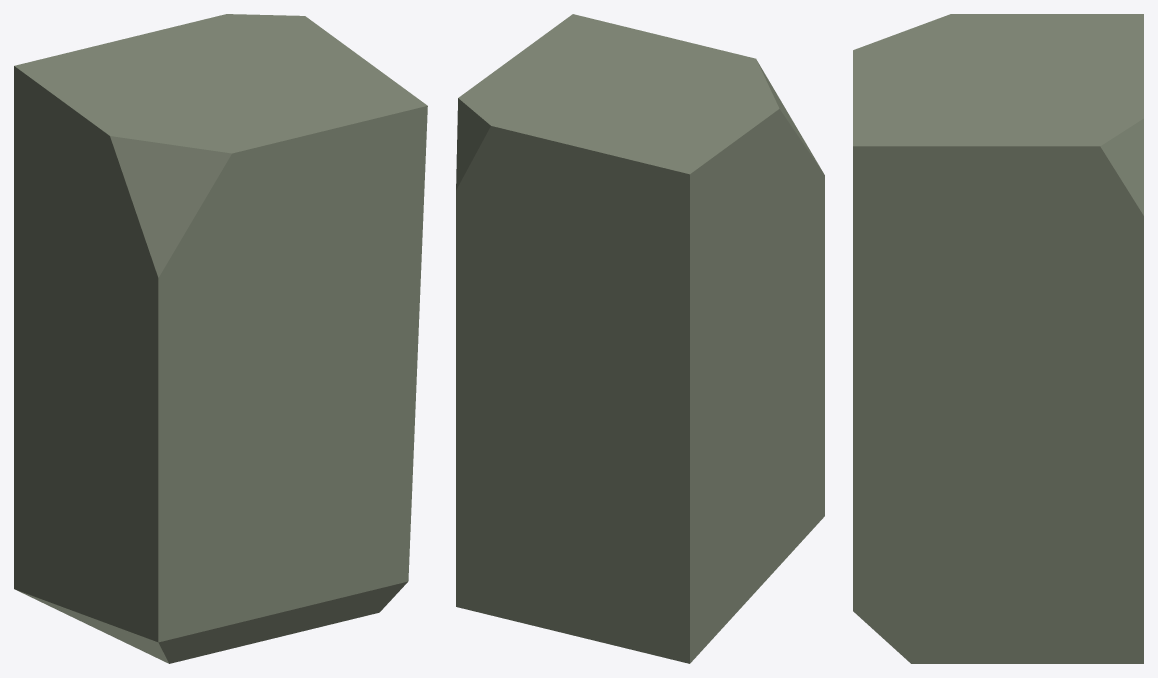
Rendered from pillar_corner_element_2.fbx.
The picture shows the model from 3 angles, left to right: view 1: azimuth 30°, elevation 25°; view 2: azimuth 150°, elevation 25°; view 3: azimuth 270°, elevation 25°; orthographic projection. The views are drawn at different scales.
Visible parts, largest first — view 1: pillar_corner_element_2; view 2: pillar_corner_element_2; view 3: pillar_corner_element_2.
Boxes of the visible parts, x1,y1,x2,y2 form: pillar_corner_element_2: [14, 14, 427, 663]; pillar_corner_element_2: [456, 14, 824, 663]; pillar_corner_element_2: [853, 14, 1143, 663].
Bounding box in the file's own units: 26.94 × 50 × 25.
